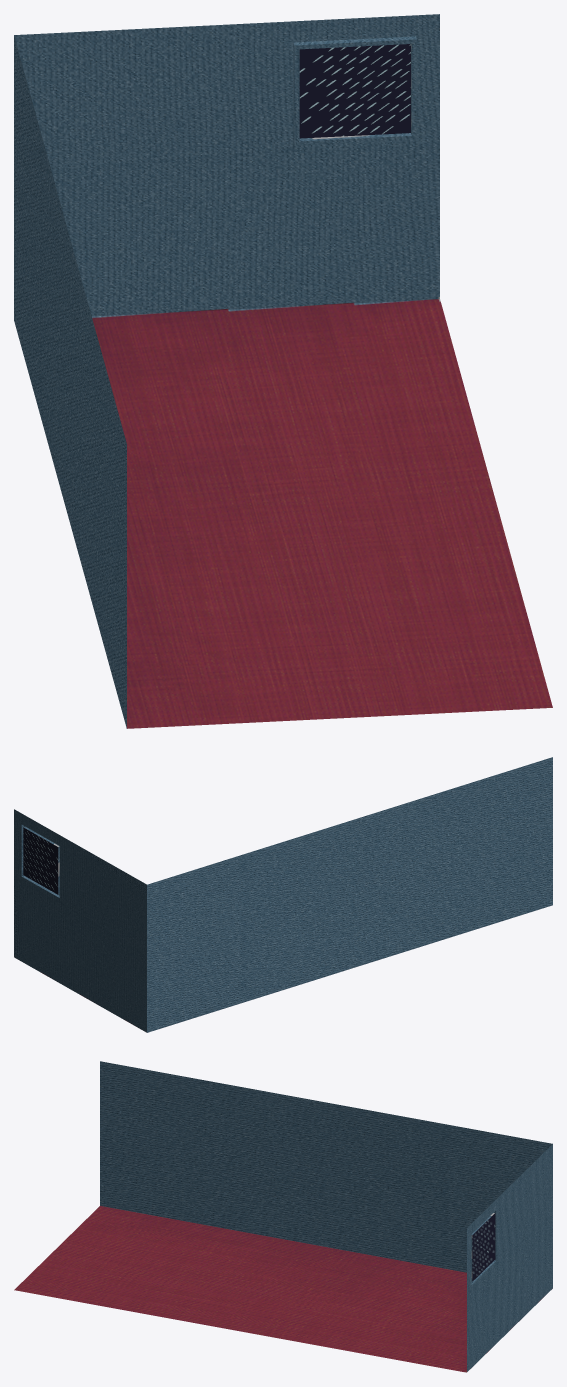
Rendered from tvstudio_0.3.fbx.
3 renders of one model, top to bottom at view 1: azimuth 30°, elevation 25°; view 2: azimuth 150°, elevation 25°; view 3: azimuth 270°, elevation 25°, orthographic. The views are drawn at different scales.
Parts seen in each view (by area): view 1: STUDIO; view 2: STUDIO; view 3: STUDIO.
Boxes of the visible parts, bbox=[...] form: STUDIO: bbox=[14, 14, 552, 728]; STUDIO: bbox=[14, 757, 552, 1032]; STUDIO: bbox=[14, 1061, 552, 1372].
Size of the model in its own units: 773 by 1054 by 312.
